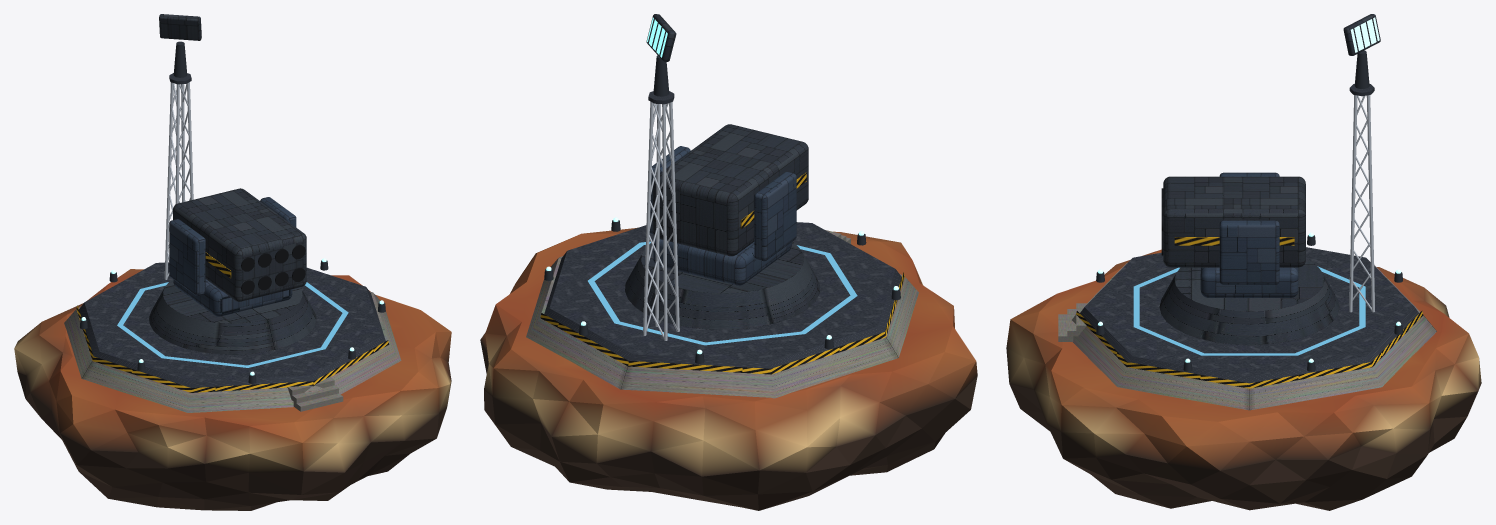
File: swarm-L100.glb
The picture shows the model from 3 angles, left to right: view 1: azimuth 30°, elevation 25°; view 2: azimuth 150°, elevation 25°; view 3: azimuth 270°, elevation 25°; orthographic projection. The views are drawn at different scales.
Visible parts, largest first — view 1: object 1, object 4, anim:pitch, object 25, object 2, anim:yaw, object 3, object 5, anim:rot; view 2: object 1, object 4, anim:pitch, object 2, object 25, anim:yaw, object 3, object 5, anim:rot; view 3: object 1, object 4, anim:pitch, object 25, object 2, anim:yaw, object 3, object 5, anim:rot.
Boxes of the visible parts, x1,y1,x2,y2 form: object 1: (14, 269, 451, 510); object 4: (79, 262, 385, 387); anim:pitch: (173, 188, 306, 301); object 25: (149, 279, 316, 354); object 2: (64, 291, 401, 412); anim:yaw: (169, 197, 296, 316); object 3: (76, 305, 389, 392); object 5: (117, 282, 348, 367); anim:rot: (159, 14, 201, 40); object 1: (480, 227, 977, 510); object 4: (544, 222, 901, 368); anim:pitch: (652, 124, 808, 256); object 2: (526, 256, 918, 398); object 25: (625, 241, 819, 329); anim:yaw: (649, 146, 796, 285); object 3: (540, 272, 904, 374); object 5: (588, 241, 857, 345); anim:rot: (646, 14, 676, 61); object 1: (1006, 249, 1481, 510); object 4: (1080, 247, 1419, 383); anim:pitch: (1161, 176, 1305, 267); object 25: (1159, 259, 1339, 344); object 2: (1072, 263, 1436, 410); anim:yaw: (1200, 172, 1298, 297); object 3: (1076, 310, 1423, 388); object 5: (1133, 266, 1365, 355); anim:rot: (1343, 14, 1380, 55).
Bounding box in the file's own units: 6.29 × 6.38 × 6.33.
Materials: 13 (6 with a texture image).
